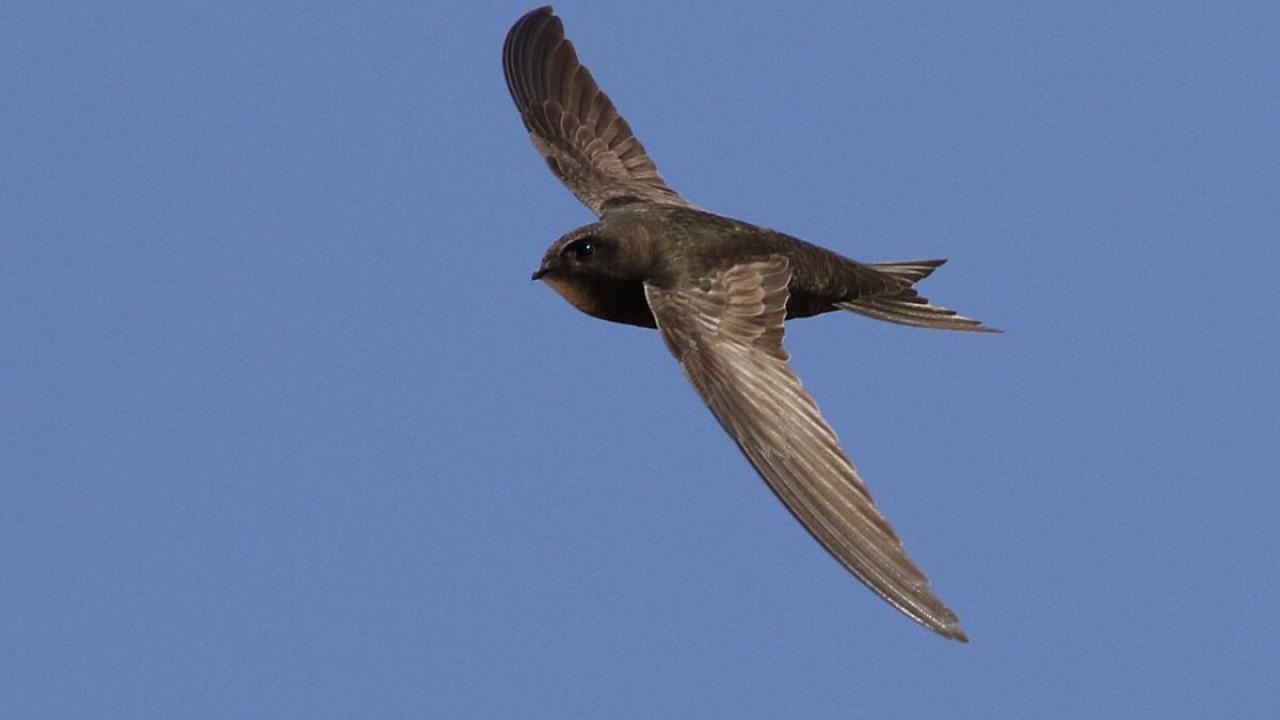Bird: (488, 0, 1014, 658)
